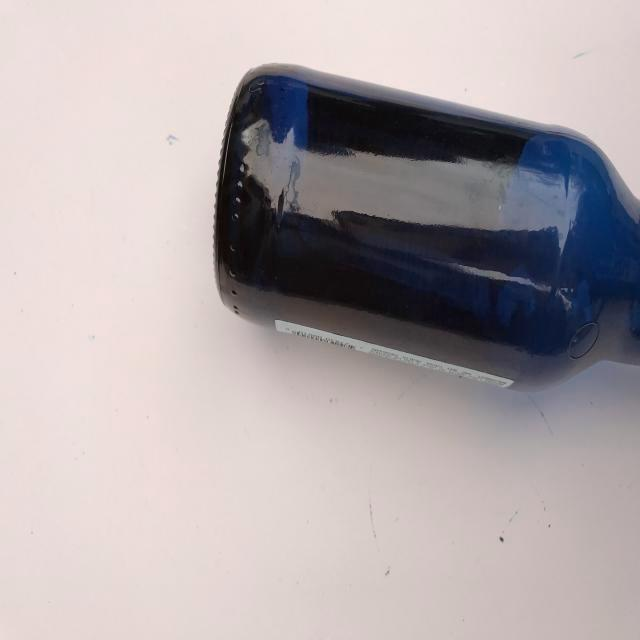glass: (199, 49, 640, 431)
